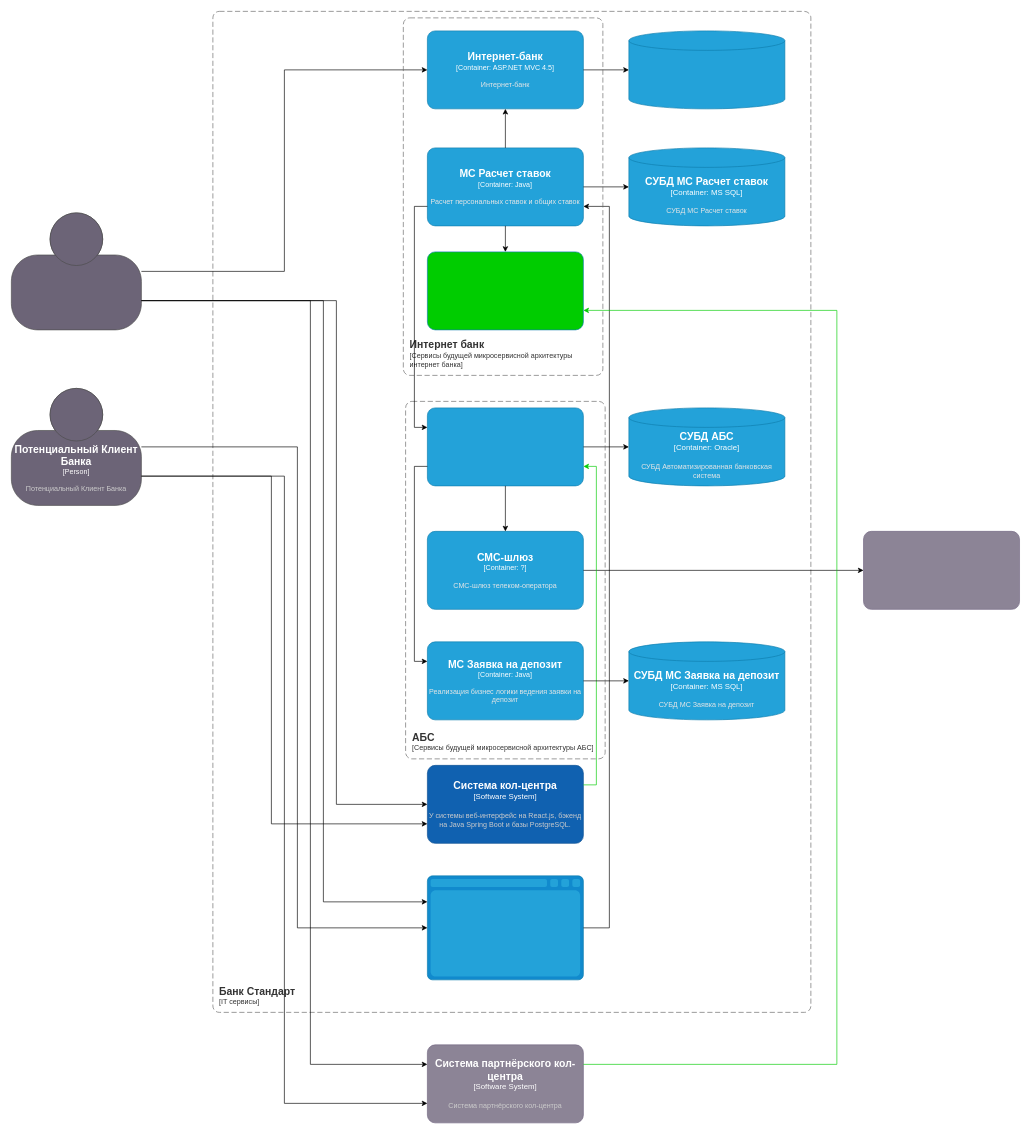
This 1031x1134 diagram has some shape labels left out. The shapes that lost their labels are listed below. From the top down, each one's centre as x and y in pixels, then its label:
At [706,69]: "СУБД Интернет-банка [Container: MS SQL] СУБД Интернет-банка".
At [76,271]: "Клиент Банка [Person] Действующий Клиент Банка".
At [505,290]: "МС Шлюз SFTP [Container: SFTP] SFTP шлюз для передачи данных о ставках".
At [505,446]: "АБС [Container: Delphi] Автоматизированная банковская система".
At [941,570]: "Телеком-оператор [Software System] Телеком-оператор".
At [505,927]: "Сайт [Container: PHP, React.js] Сайт".
